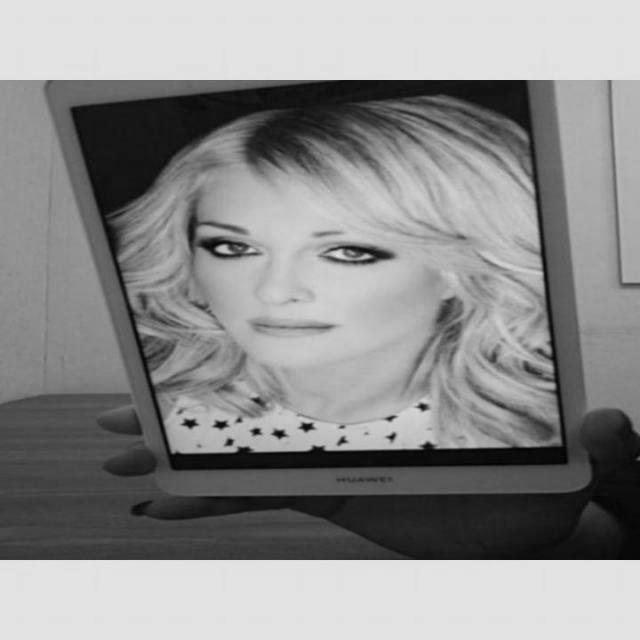fake: (43, 80, 606, 507)
